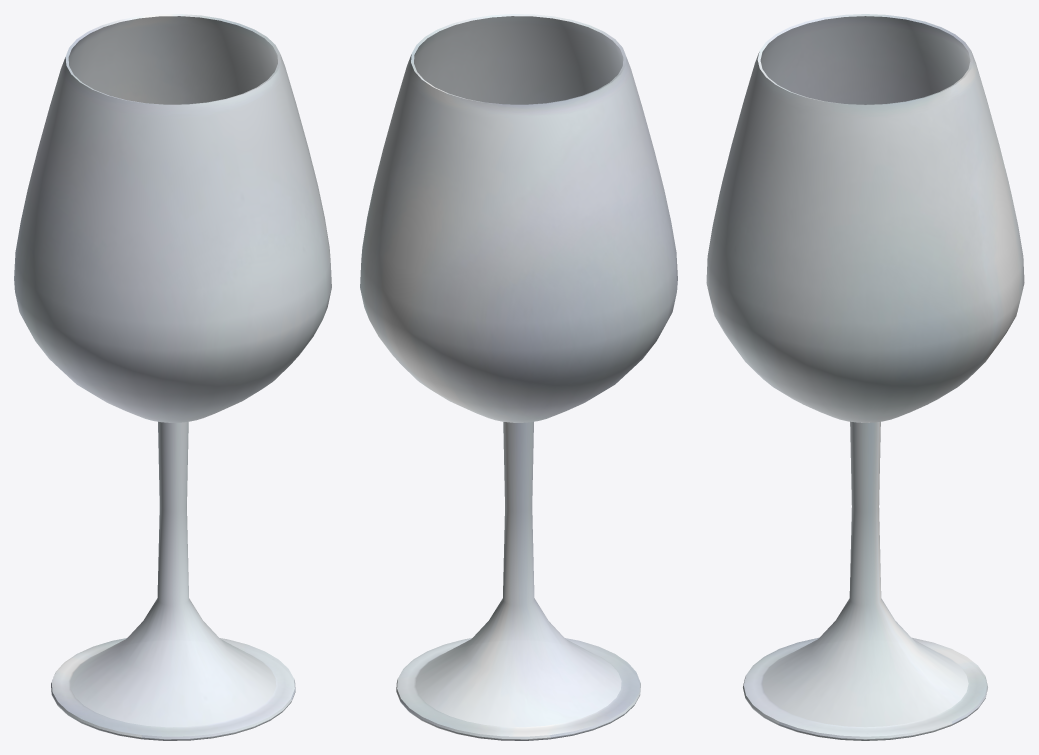
3 views of the same model, side by side, from view 1: azimuth 30°, elevation 25°; view 2: azimuth 150°, elevation 25°; view 3: azimuth 270°, elevation 25° (orthographic).
Parts seen in each view (by area): view 1: Wine Glass; view 2: Wine Glass; view 3: Wine Glass.
Part boxes in pixels (x1,y1,x2,y2): Wine Glass: (14,14,331,740); Wine Glass: (360,14,677,740); Wine Glass: (706,14,1024,740).
Size of the model in its own units: 104 by 227 by 104.
Materials: 3 (3 with a texture image).
